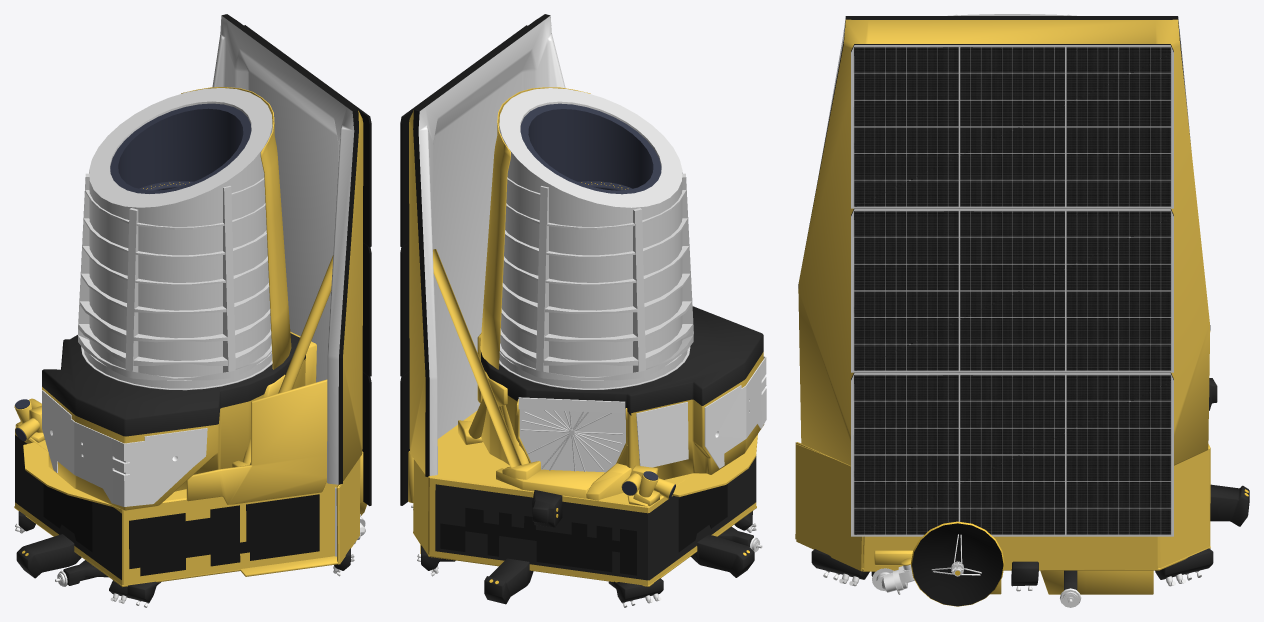
Rendered from original.glb.
The picture shows the model from 3 angles, left to right: view 1: azimuth 30°, elevation 25°; view 2: azimuth 150°, elevation 25°; view 3: azimuth 270°, elevation 25°; orthographic projection. The views are drawn at different scales.
Visible parts, largest first — view 1: Cylinder, Cube.028, Cube.001, Cube.005, Cube.008, Plane.002, Cube.012, Cube.027, Cylinder.014, Cylinder.020, Cube.026, Cube.011 (+7 smaller); view 2: Cylinder, Cube.028, Cube.005, Cube.001, Cube.002, Cube.016, Cylinder.020, Cylinder.014, Cube.027, Cube.012, Cube.003, Cube.026 (+15 smaller); view 3: Cube.019, Cube.020, Cube.021, Cube.027, Cube.005, Cylinder.025, Cylinder.020, Cube.040, Cube.026.
Part boxes in pixels (x1,y1,x2,y2): Cylinder: (78,88,272,390); Cube.028: (212,15,354,484); Cube.001: (42,333,305,510); Cube.005: (15,429,359,585); Cube.008: (186,379,327,505); Plane.002: (129,494,319,576); Cube.012: (42,390,207,506); Cube.027: (343,110,363,481); Cylinder.014: (181,87,291,369); Cylinder.020: (15,511,354,607); Cube.026: (222,14,358,484); Cube.011: (43,484,92,551); Cylinder: (499,88,693,389); Cube.028: (418,16,565,475); Cube.005: (413,410,756,585); Cube.001: (481,306,764,479); Cube.002: (518,397,625,472); Cube.016: (440,507,636,575); Cylinder.020: (417,511,756,607); Cylinder.014: (480,87,590,369); Cube.027: (409,110,425,474); Cube.012: (704,356,766,468); Cube.003: (636,402,688,467); Cube.026: (413,14,550,476); Cube.019: (851,44,1173,208); Cube.020: (851,208,1173,372); Cube.021: (851,372,1173,536); Cube.027: (798,19,1210,466); Cube.005: (795,442,1210,571); Cylinder.025: (910,521,1004,606); Cylinder.020: (811,484,1249,586); Cube.040: (990,570,1153,594); Cube.026: (798,16,1210,330).
Bounding box in the file's own units: 3.62 × 4.99 × 3.52.
Materials: 12 (1 with a texture image).
